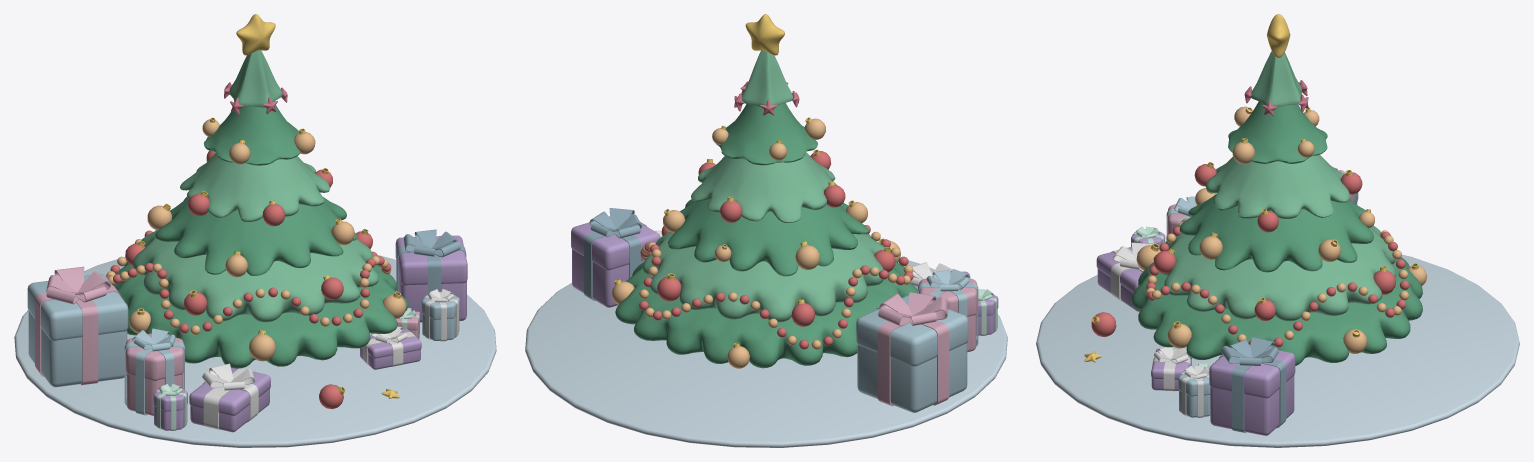
Rendered from christmas-tree.glb.
The picture shows the model from 3 angles, left to right: view 1: azimuth 30°, elevation 25°; view 2: azimuth 150°, elevation 25°; view 3: azimuth 270°, elevation 25°; orthographic projection.
Visible parts, largest first — view 1: ground, Zylinder 19 Faces, Zylinder 15 Faces, Zylinder 13 Faces, Zylinder (×3), Zylinder 11 Faces, Würfel.2 (×2), gift 1 (×2), Würfel.1 (×2), Zylinder.1 (×2), gift 3 (×2), gift 2 (×2) (+6 smaller); view 2: ground, Zylinder 19 Faces, Zylinder 15 Faces, Zylinder 13 Faces, Zylinder (×3), Zylinder 11 Faces, gift 1 (×2), Würfel.2 (×2), Sweep.3 (×2), Sweep.2, Kugel (×2), Zylinder.1; view 3: ground, Zylinder 19 Faces, Zylinder 15 Faces, Zylinder 13 Faces, Zylinder 11 Faces, Zylinder (×3), gift 1, Würfel.2, Sweep.2, Würfel.1, Sweep.3, gift 2 (+1 smaller).
Boxes of the visible parts, x1,y1,x2,y2 form: ground: (14,255,496,447); Zylinder 19 Faces: (113,262,408,368); Zylinder 15 Faces: (132,230,378,322); Zylinder 13 Faces: (155,197,356,275); Zylinder (×3): (204,14,300,165); Zylinder 11 Faces: (180,153,329,222); Würfel.2 (×2): (27,235,467,340); gift 1 (×2): (28,261,466,387); Würfel.1 (×2): (189,328,421,415); Zylinder.1 (×2): (125,292,459,380); gift 3 (×2): (190,347,420,432); gift 2 (×2): (126,312,459,415); ground: (525,260,1007,447); Zylinder 19 Faces: (615,262,917,368); Zylinder 15 Faces: (642,232,885,322); Zylinder 13 Faces: (668,199,868,276); Zylinder (×3): (716,14,817,165); Zylinder 11 Faces: (691,152,837,222); gift 1 (×2): (572,249,967,412); Würfel.2 (×2): (571,216,968,366); Sweep.3 (×2): (584,222,949,405); Sweep.2: (877,321,900,406); Kugel (×2): (657,245,819,301); Zylinder.1: (919,278,977,316); ground: (1036,254,1519,447); Zylinder 19 Faces: (1131,257,1422,365); Zylinder 15 Faces: (1159,225,1396,321); Zylinder 13 Faces: (1179,194,1373,272); Zylinder 11 Faces: (1206,154,1349,218); Zylinder (×3): (1228,14,1327,163); gift 1: (1210,375,1294,435); Würfel.2: (1209,342,1295,398); Sweep.2: (1232,363,1251,432); Würfel.1: (1096,247,1142,292); Sweep.3: (1218,354,1286,428); gift 2: (1179,390,1210,417).
Size of the model in its own units: 1.48 by 1.12 by 1.48.
